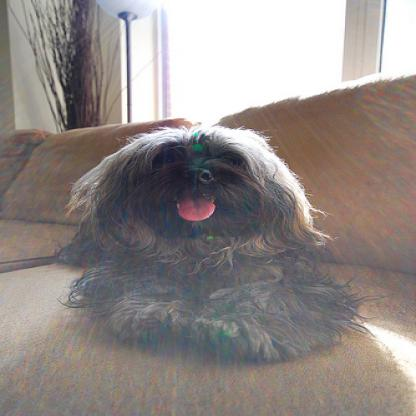dog: (64, 124, 358, 362)
sofa: (0, 72, 415, 415)
